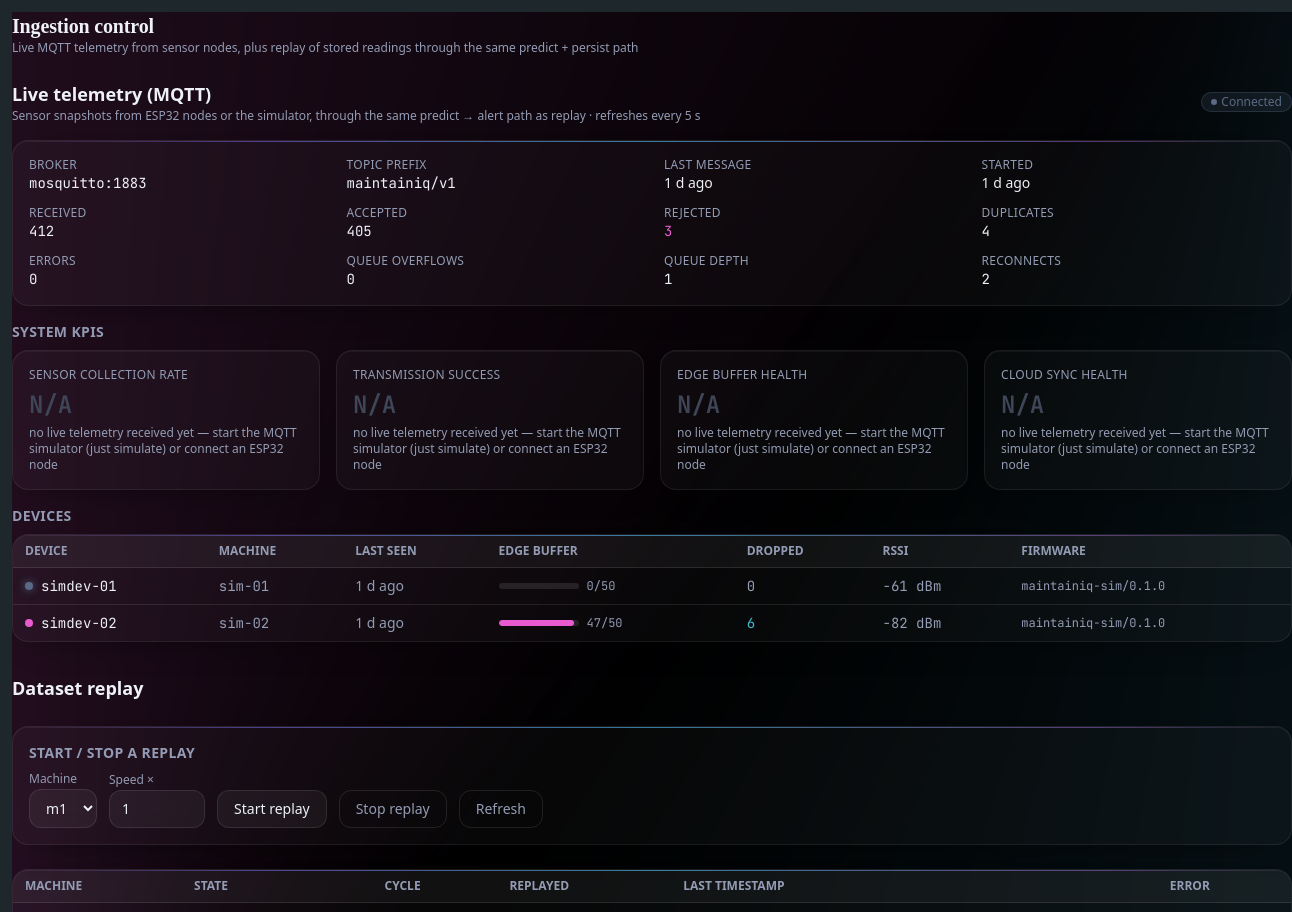
Test: IngestionPage › shows an error banner when start fails
expect the dropdown labelled "Machine" is shown: met, box [29,789,97,828]
Click the button "Start replay" at (272,809), box [217,790,327,828]
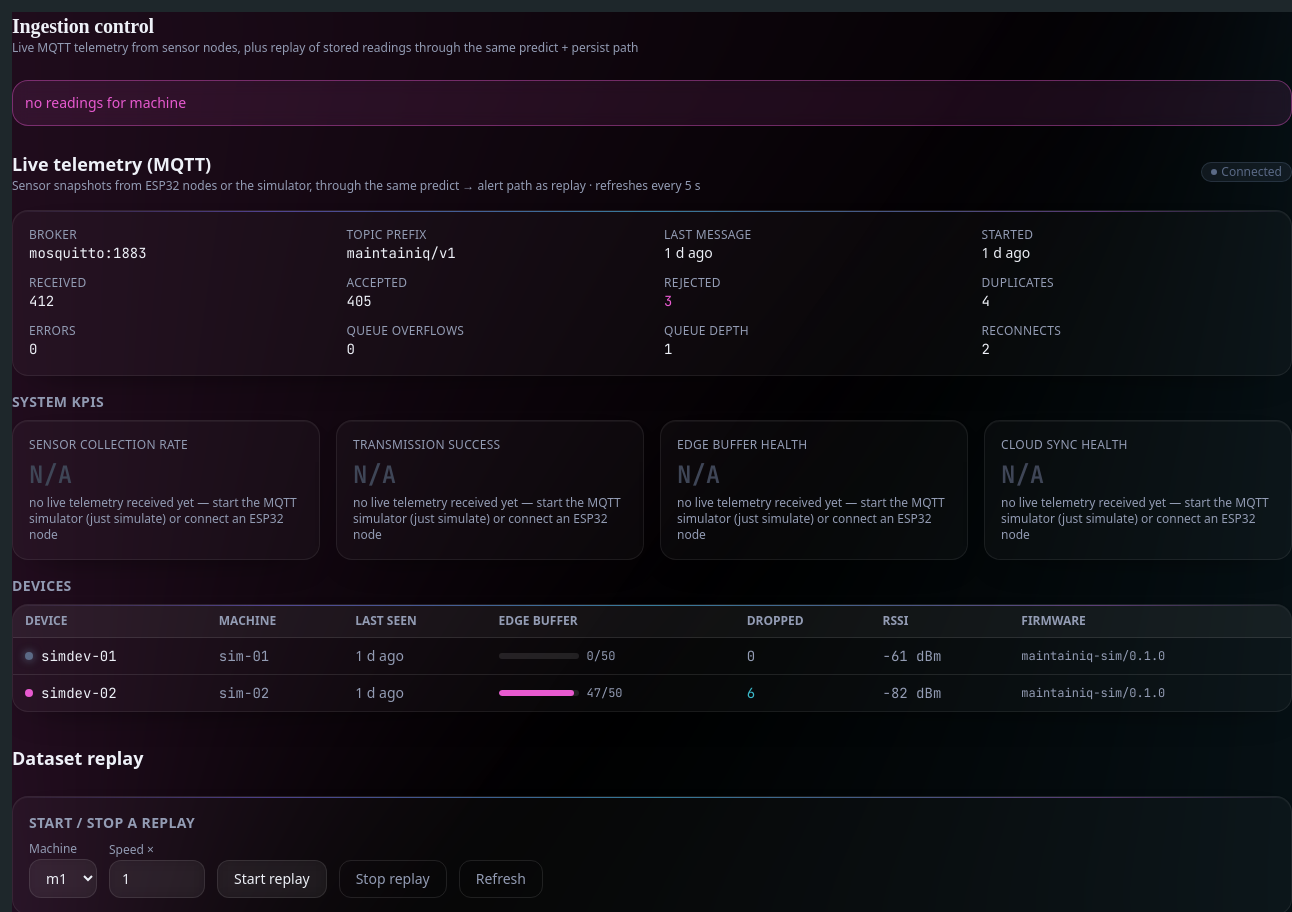
expect the text "no readings for machine" is shown: met, box [12,80,1291,126]
